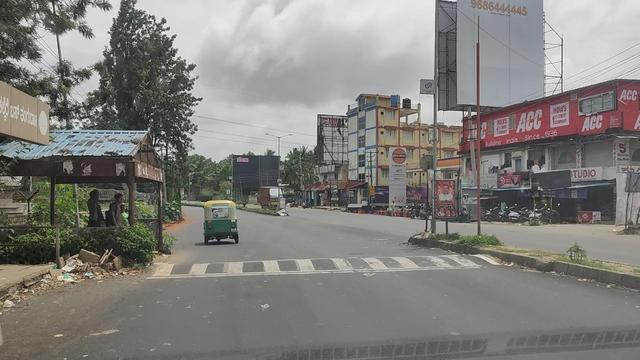LMV: (203, 200, 240, 242)
SpeedBump: (153, 251, 497, 279)
